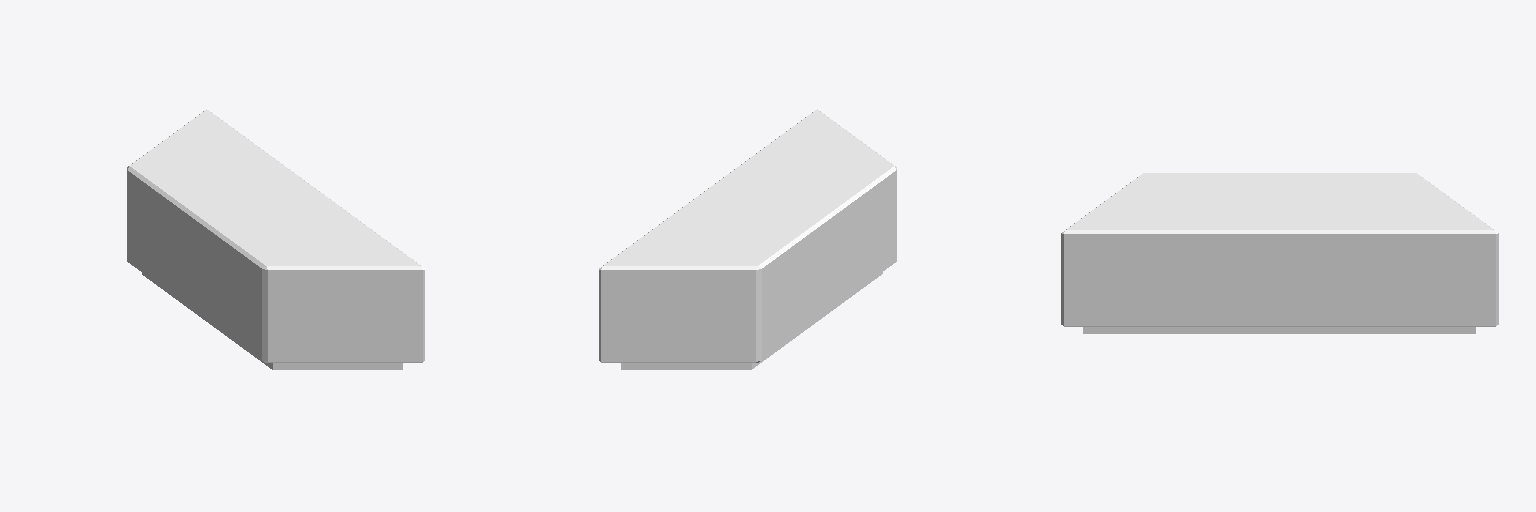
Rendered from Chair_3.obj.
The picture shows the model from 3 angles: view 1: azimuth 30°, elevation 25°; view 2: azimuth 150°, elevation 25°; view 3: azimuth 270°, elevation 25°; orthographic projection.
Visible parts, largest first — view 1: Mesh179_Group154_Component_4_3_Component_1_3_Model.1; view 2: Mesh179_Group154_Component_4_3_Component_1_3_Model.1; view 3: Mesh179_Group154_Component_4_3_Component_1_3_Model.1.
Part boxes in pixels (bbox=[...]): Mesh179_Group154_Component_4_3_Component_1_3_Model.1: bbox=[127, 109, 424, 369]; Mesh179_Group154_Component_4_3_Component_1_3_Model.1: bbox=[599, 109, 896, 369]; Mesh179_Group154_Component_4_3_Component_1_3_Model.1: bbox=[1061, 173, 1498, 333].
Size of the model in its own units: 20 by 16.92 by 61.87.